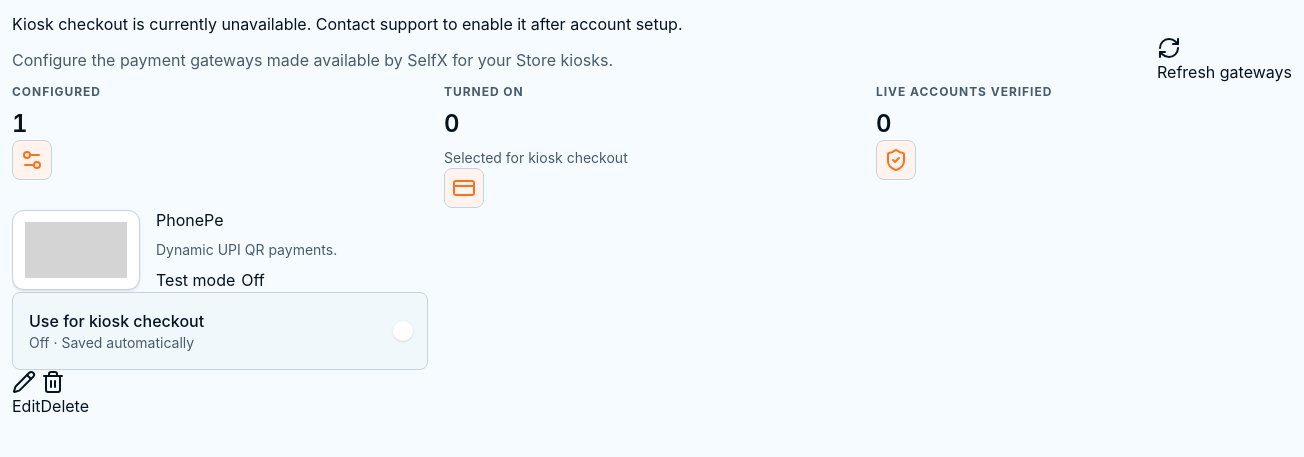
Test case: payment settings › uses the Store revision when selecting its configured gateway
The width and height of the screenshot is (1304, 457).
Click the switch named "Use PhonePe for kiosk checkout" at [401, 331], box [391,321,411,341]
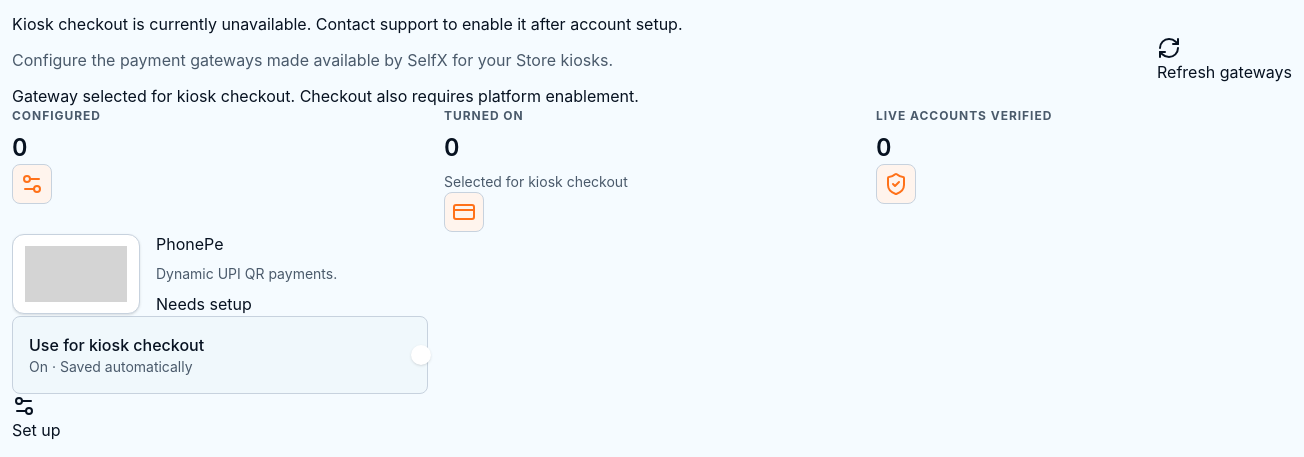
Result: the text "Gateway selected for kiosk checkout" is shown at [12,86,639,106]
